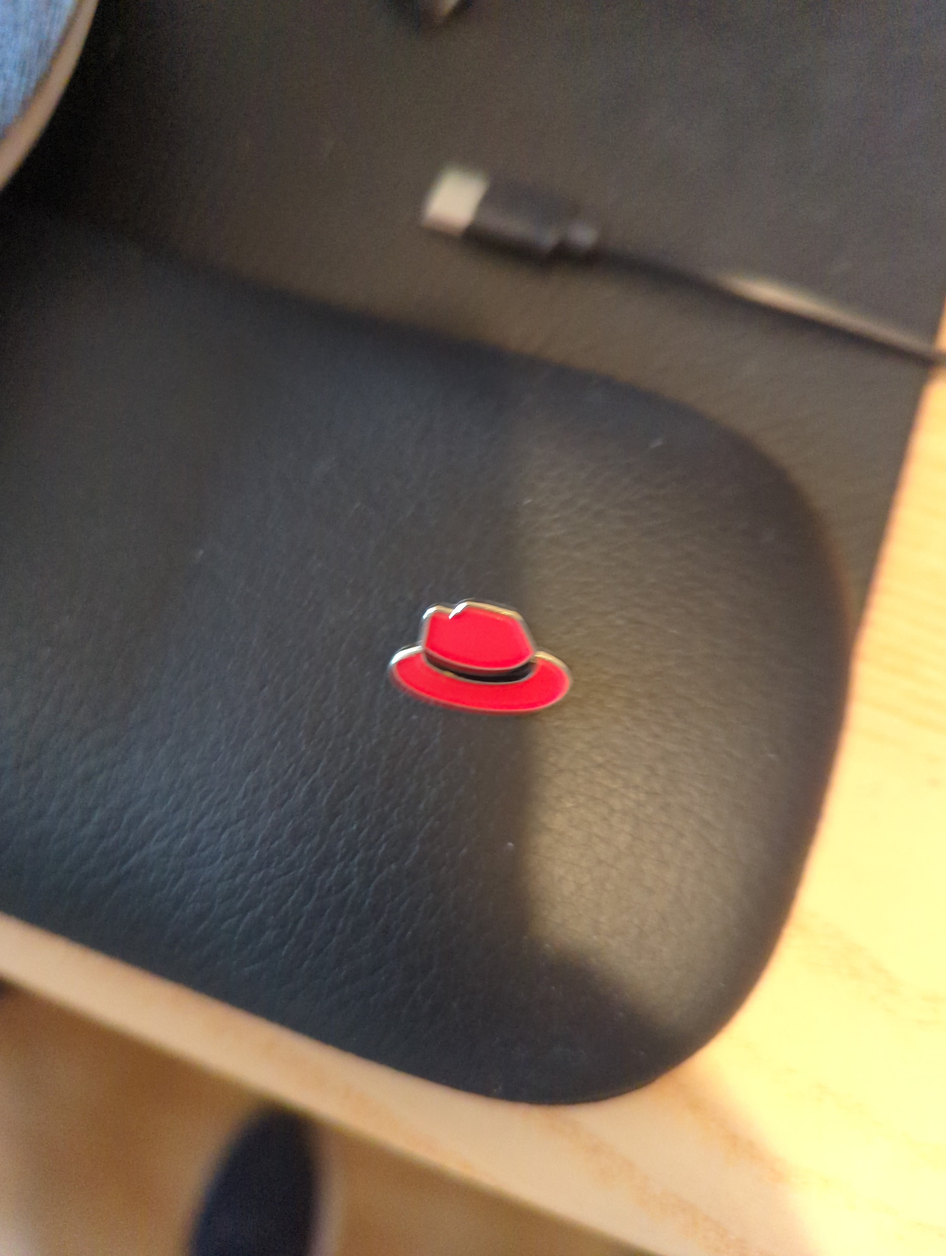Red-Hat: (310, 517, 695, 799)
